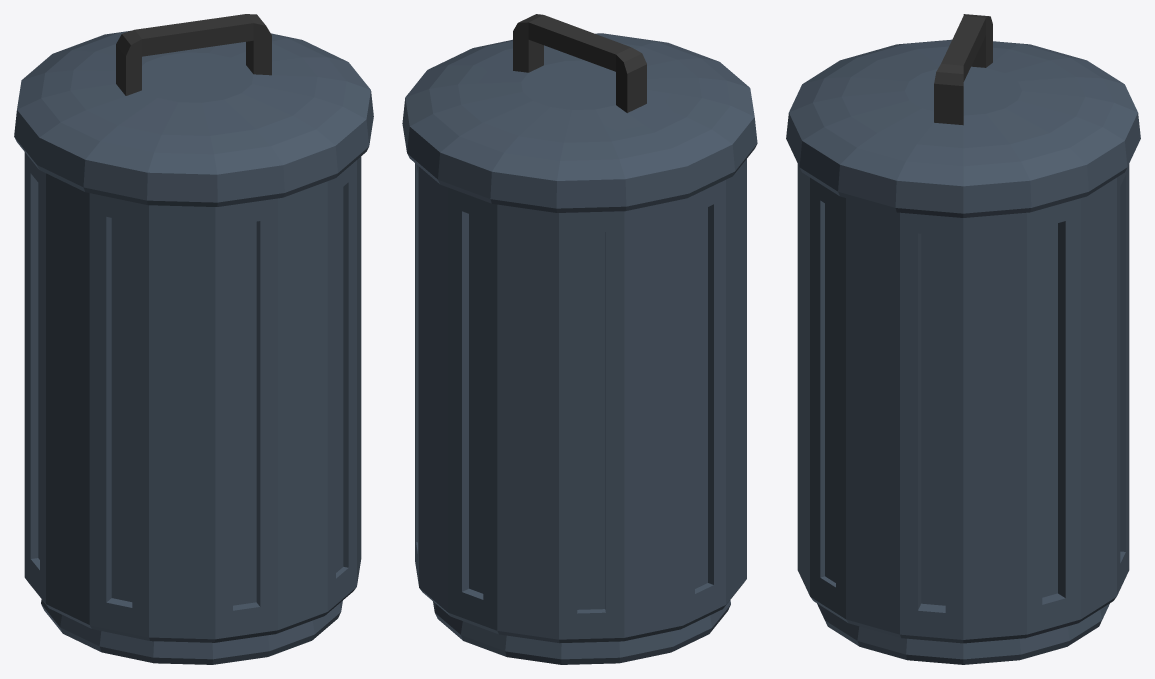
Rendered from garbagecan_1_partyassets.fbx.
The picture shows the model from 3 angles, left to right: view 1: azimuth 30°, elevation 25°; view 2: azimuth 150°, elevation 25°; view 3: azimuth 270°, elevation 25°; orthographic projection. The views are drawn at different scales.
Visible parts, largest first — view 1: garbagecan_1_partyassets, Cube.151; view 2: garbagecan_1_partyassets, Cube.151; view 3: garbagecan_1_partyassets, Cube.151.
Boxes of the visible parts, bbox=[...] form: garbagecan_1_partyassets: bbox=[14, 30, 373, 664]; Cube.151: bbox=[116, 14, 271, 95]; garbagecan_1_partyassets: bbox=[402, 33, 757, 664]; Cube.151: bbox=[513, 14, 646, 112]; garbagecan_1_partyassets: bbox=[786, 39, 1140, 664]; Cube.151: bbox=[934, 14, 992, 125].
Size of the model in its own units: 42.69 by 74.67 by 42.69.
